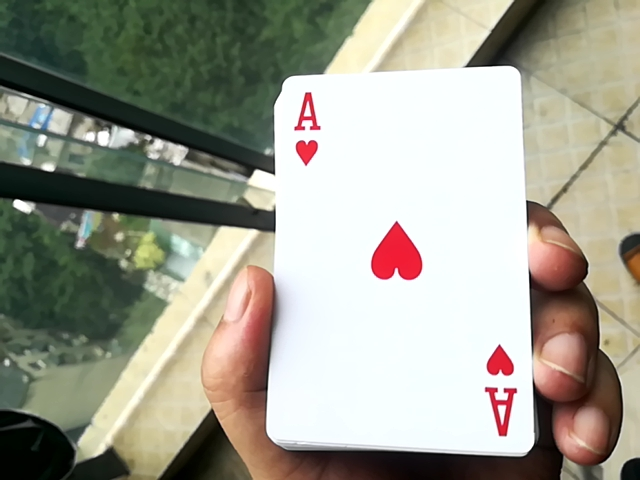hx a: (248, 60, 536, 461)
